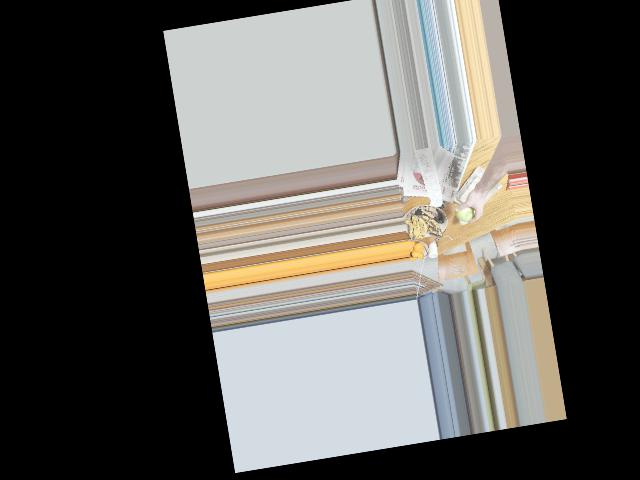apple: (455, 202, 479, 223)
